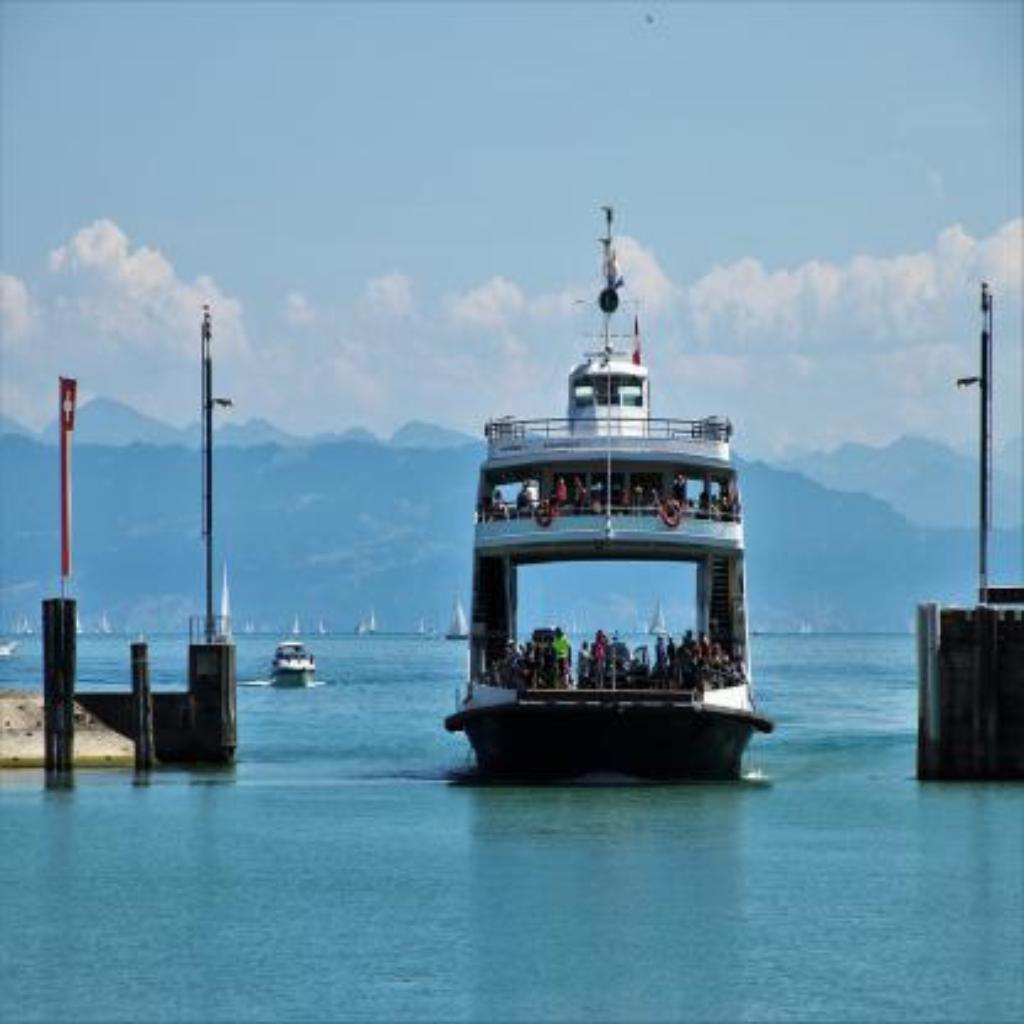PassengerShip: (444, 192, 770, 780)
